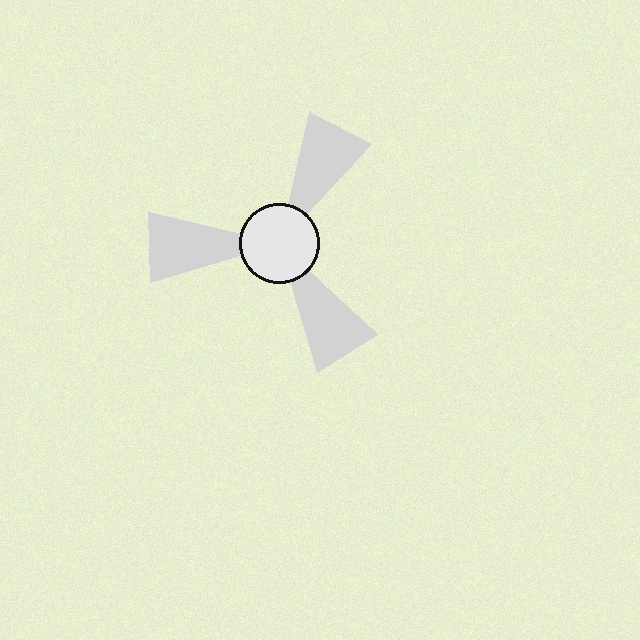fan: (119, 83, 439, 403)
